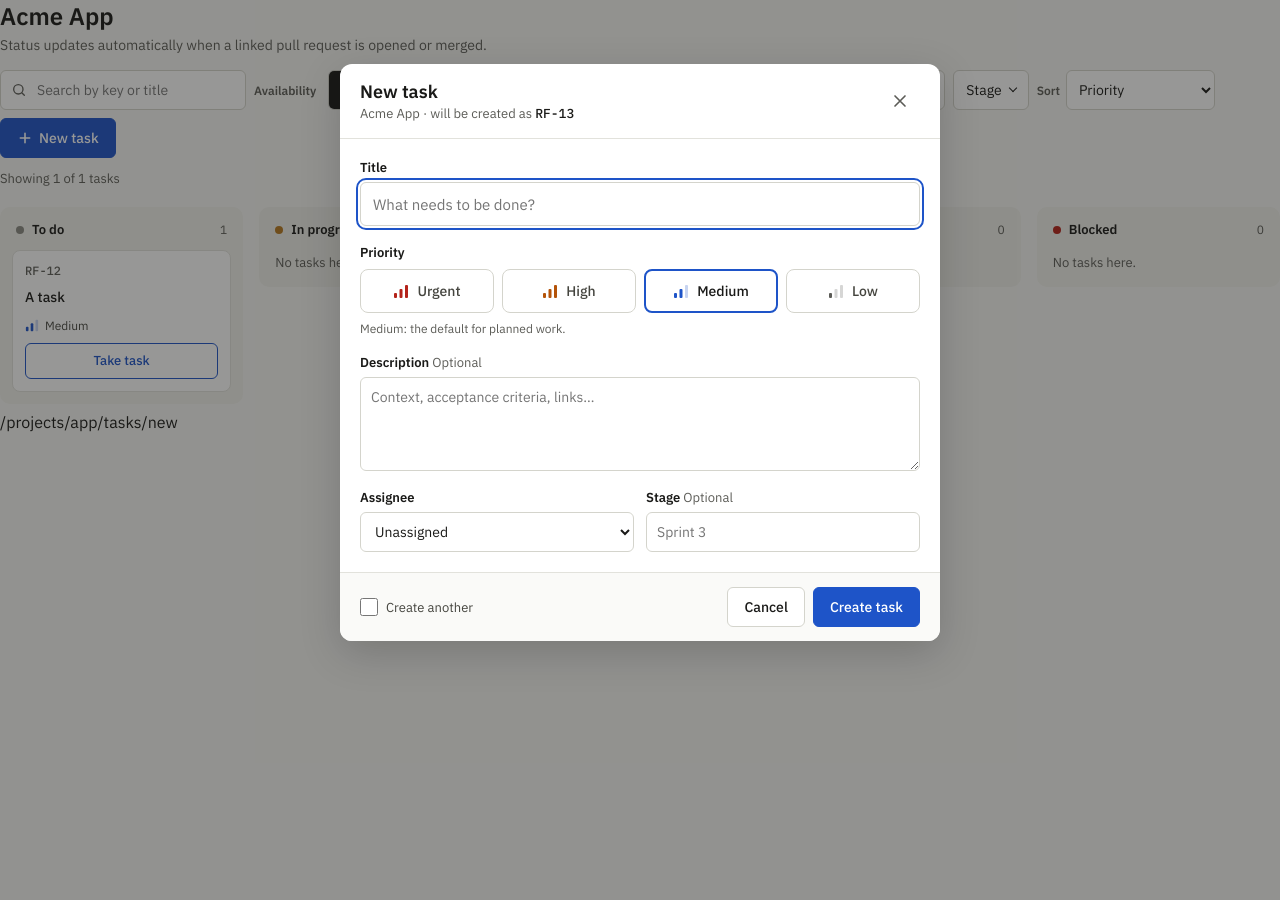
it: New task › requires a title before creating
Step 1. Click the button "Create task" → x=866, y=607, box [813,587,920,627]
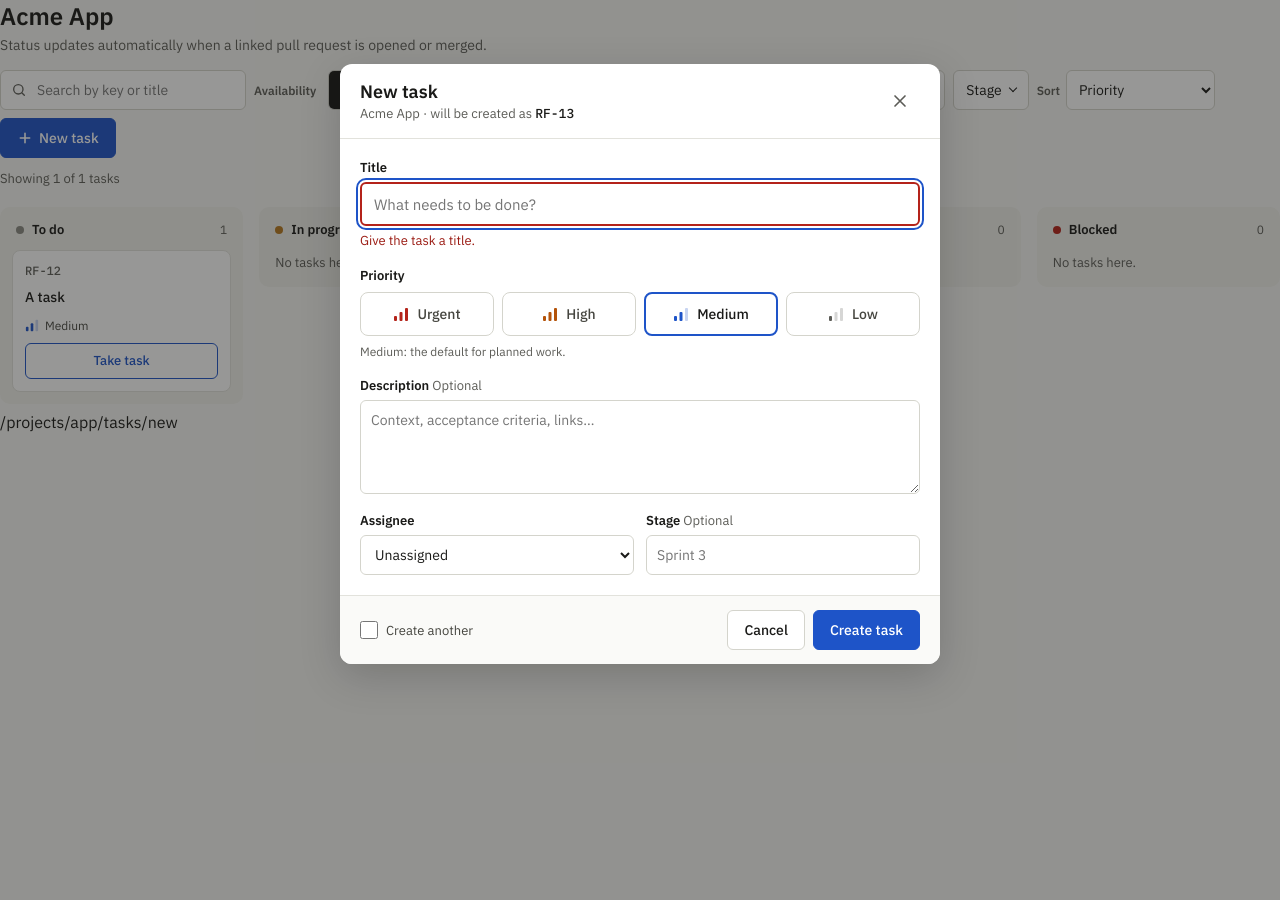
Expected: the message reads "Give the task a title.", [360,232,475,249]
